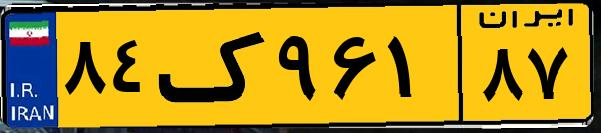1: (385, 28, 445, 110)
4: (110, 28, 158, 98)
6: (330, 28, 385, 110)
7: (525, 38, 570, 115)
8: (57, 26, 110, 100), (475, 38, 525, 113)
9: (270, 28, 330, 110)
ک: (158, 12, 270, 120)
